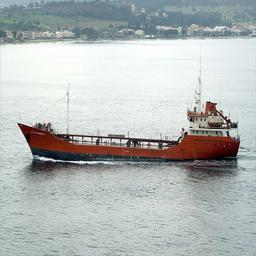Ship: (17, 101, 244, 166)
